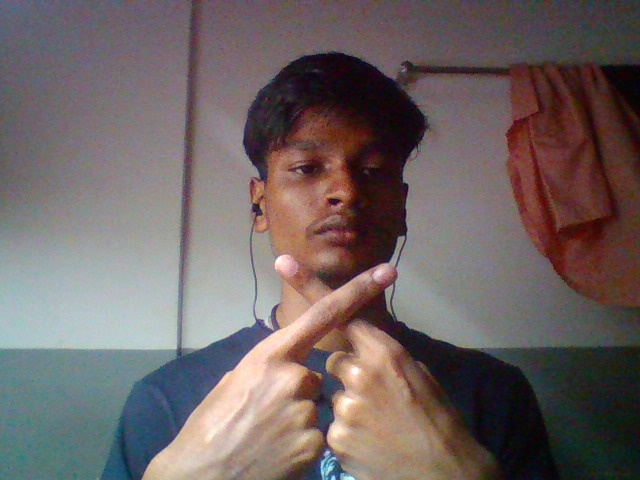X: (188, 251, 494, 480)
